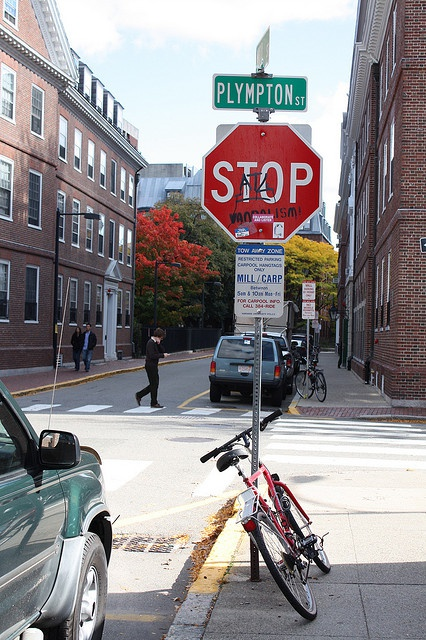non-vehicle: (200, 408, 333, 621), (295, 356, 326, 401)
